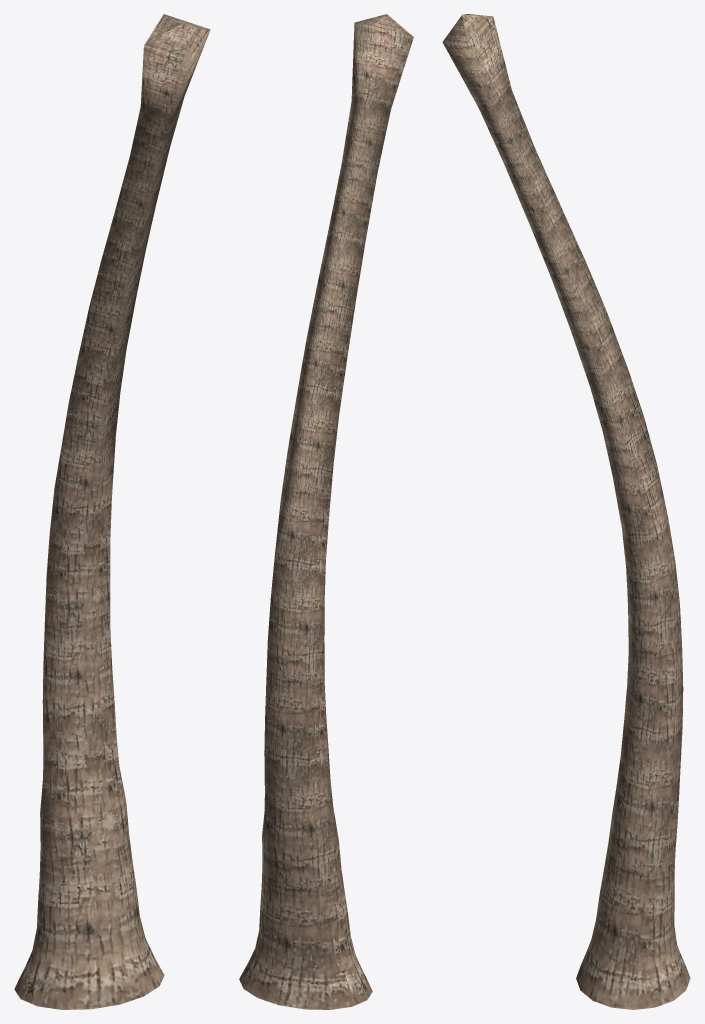
The model's file is m_palm_p2_11_trunk_0.glb.
The picture shows the model from 3 angles, left to right: view 1: azimuth 30°, elevation 25°; view 2: azimuth 150°, elevation 25°; view 3: azimuth 270°, elevation 25°; orthographic projection. The views are drawn at different scales.
Visible parts, largest first — view 1: M_Palm_P2_11_Trunk_0; view 2: M_Palm_P2_11_Trunk_0; view 3: M_Palm_P2_11_Trunk_0.
Boxes of the visible parts, x1,y1,x2,y2 form: M_Palm_P2_11_Trunk_0: (14, 14, 210, 1009); M_Palm_P2_11_Trunk_0: (239, 14, 413, 1009); M_Palm_P2_11_Trunk_0: (442, 14, 690, 1009).
Size of the model in its own units: 0.4433 by 3.16 by 0.7369.
1 material, 1 textured.
